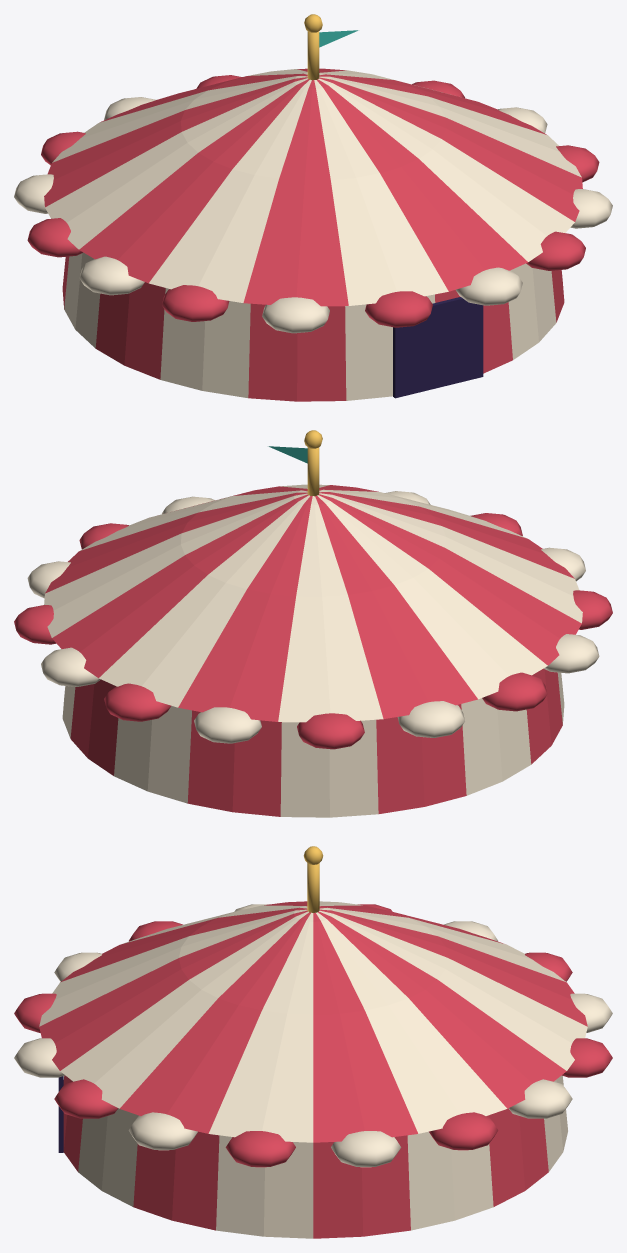
File: tent.glb
3 views of the same model, one above another, from view 1: azimuth 30°, elevation 25°; view 2: azimuth 150°, elevation 25°; view 3: azimuth 270°, elevation 25° (orthographic).
Visible parts, largest first — view 1: circus-tent.001; view 2: circus-tent.001; view 3: circus-tent.001.
Part boxes in pixels (left/top/right/bottom): circus-tent.001: left=14, top=14, right=612, bottom=401; circus-tent.001: left=14, top=430, right=612, bottom=817; circus-tent.001: left=14, top=846, right=612, bottom=1238.
Bounding box in the file's own units: 2.43 × 1.28 × 2.45.
